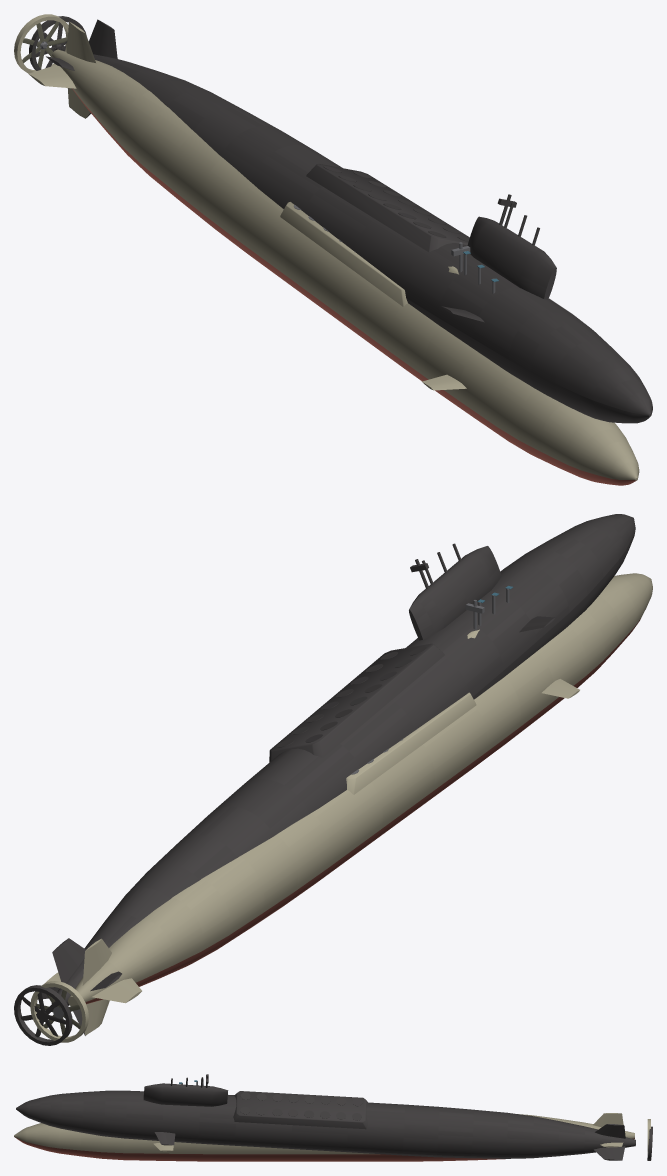
The model's file is nuclearSub__borei_a.glb.
The picture shows the model from 3 angles, top to bottom: view 1: azimuth 30°, elevation 25°; view 2: azimuth 150°, elevation 25°; view 3: azimuth 270°, elevation 25°; orthographic projection. The views are drawn at different scales.
Parts seen in each view (by area): view 1: Wreck, Hull_Mesh; view 2: Wreck, Hull_Mesh; view 3: Wreck, Hull_Mesh.
Part boxes in pixels (box(x1,y1,x2,y2)): Wreck: box(29, 16, 652, 423); Hull_Mesh: box(14, 14, 639, 485); Wreck: box(14, 514, 635, 1045); Hull_Mesh: box(30, 573, 652, 1042); Wreck: box(16, 1074, 652, 1160); Hull_Mesh: box(14, 1080, 650, 1161).
Size of what is drawn, in the model's own units: 23.7 by 28.43 by 168.
